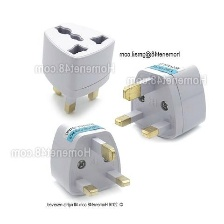three_eye_plug: (35, 18, 118, 115), (112, 63, 211, 142), (47, 119, 132, 201)
